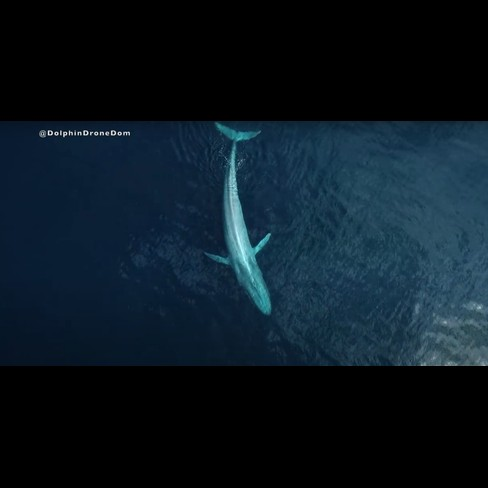bluewhale: (204, 120, 277, 321)
